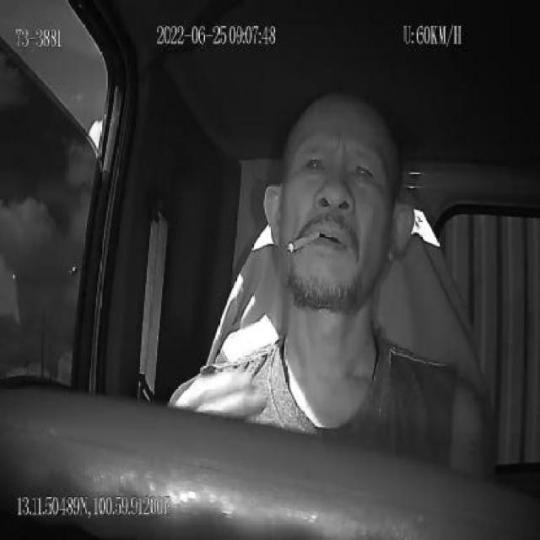smoking: (287, 229, 321, 255)
